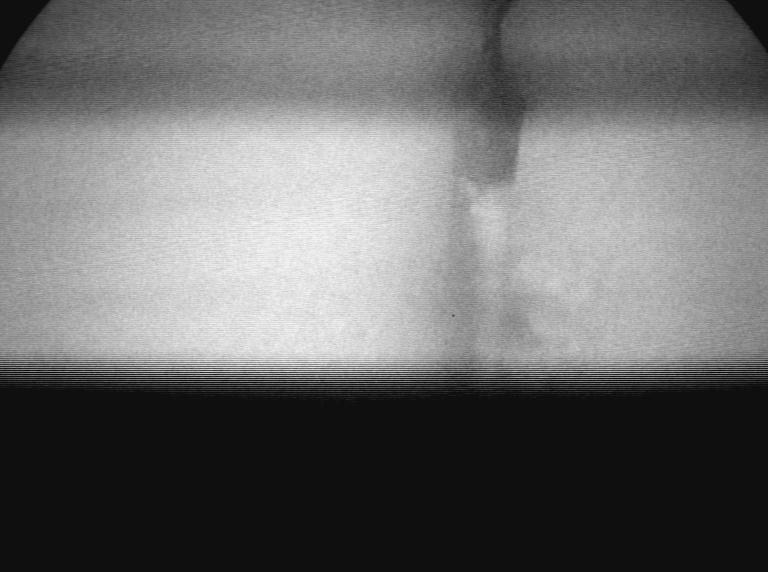defect: (512, 245, 596, 307)
